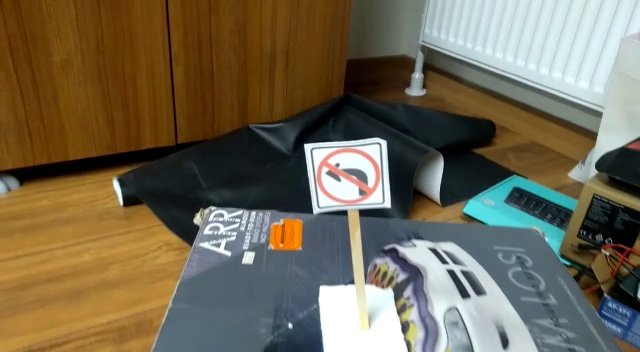sola_donulmez: (314, 142, 381, 212)
